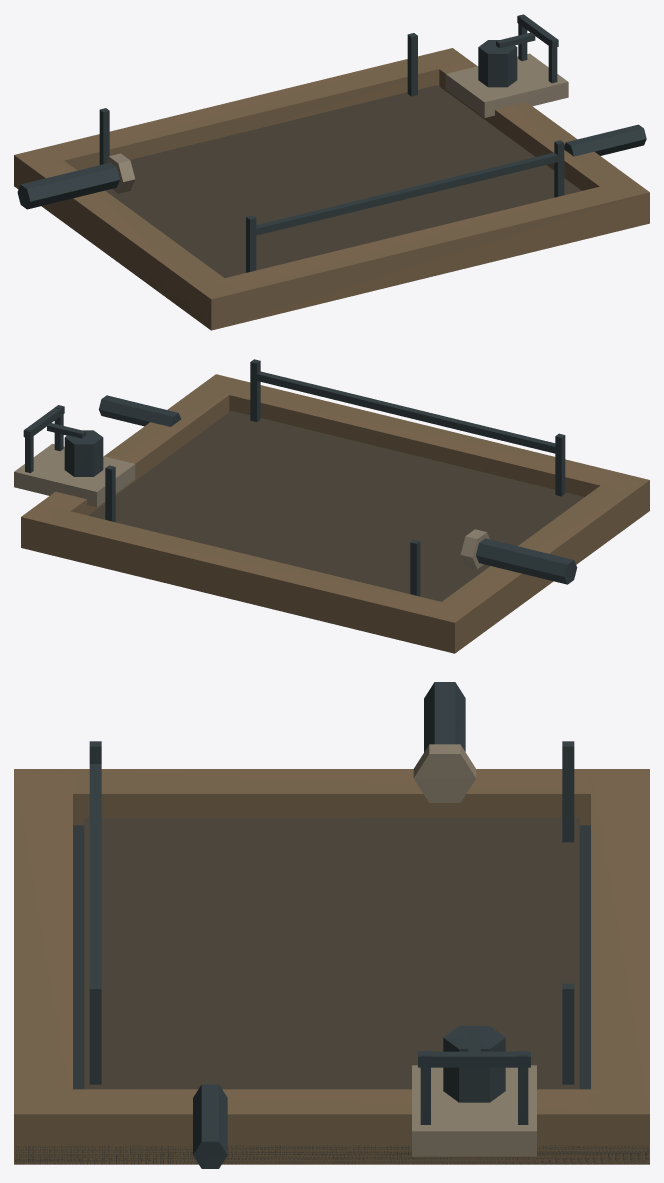
Rendered from manure-lagoon.source.glb.
3 renders of one model, top to bottom at view 1: azimuth 30°, elevation 25°; view 2: azimuth 150°, elevation 25°; view 3: azimuth 270°, elevation 25°, orthographic. The views are drawn at different scales.
Parts seen in each view (by area): view 1: manure-lagoon-low-compacted-earth-embankment-mesh (×4), manure-lagoon-dark-contained-slurry-surface-cue-mesh, manure-lagoon-guarded-pump-service-platform-mesh, manure-lagoon-perimeter-safety-rail-mesh, manure-lagoon-reinforced-inlet-pipe-mesh, manure-lagoon-perimeter-safety-post-mesh (×4), manure-lagoon-small-isolation-pump-cue-mesh, manure-lagoon-outflow-irrigation-connection-mesh, manure-lagoon-inlet-pipe-collar-mesh, manure-lagoon-pump-platform-guard-rail-mesh; view 2: manure-lagoon-low-compacted-earth-embankment-mesh (×4), manure-lagoon-dark-contained-slurry-surface-cue-mesh, manure-lagoon-guarded-pump-service-platform-mesh, manure-lagoon-perimeter-safety-rail-mesh, manure-lagoon-reinforced-inlet-pipe-mesh, manure-lagoon-perimeter-safety-post-mesh (×4), manure-lagoon-small-isolation-pump-cue-mesh, manure-lagoon-outflow-irrigation-connection-mesh, manure-lagoon-inlet-pipe-collar-mesh, manure-lagoon-pump-platform-guard-rail-mesh; view 3: manure-lagoon-dark-contained-slurry-surface-cue-mesh, manure-lagoon-low-compacted-earth-embankment-mesh (×4), manure-lagoon-broad-lined-lagoon-base-mesh, manure-lagoon-guarded-pump-service-platform-mesh, manure-lagoon-perimeter-safety-post-mesh (×3), manure-lagoon-small-isolation-pump-cue-mesh, manure-lagoon-inlet-pipe-collar-mesh, manure-lagoon-perimeter-safety-rail-mesh, manure-lagoon-outflow-irrigation-connection-mesh, manure-lagoon-reinforced-inlet-pipe-mesh, manure-lagoon-pump-platform-guard-rail-mesh, manure-lagoon-pump-platform-guard-post-mesh (×2).
Boxes of the visible parts, x1,y1,x2,y2 form: manure-lagoon-low-compacted-earth-embankment-mesh (×4): [14, 48, 649, 330]; manure-lagoon-dark-contained-slurry-surface-cue-mesh: [105, 85, 581, 277]; manure-lagoon-guarded-pump-service-platform-mesh: [445, 53, 568, 117]; manure-lagoon-perimeter-safety-rail-mesh: [250, 152, 557, 236]; manure-lagoon-reinforced-inlet-pipe-mesh: [17, 162, 119, 209]; manure-lagoon-perimeter-safety-post-mesh (×4): [99, 33, 564, 272]; manure-lagoon-small-isolation-pump-cue-mesh: [478, 40, 517, 87]; manure-lagoon-outflow-irrigation-connection-mesh: [564, 124, 646, 156]; manure-lagoon-inlet-pipe-collar-mesh: [106, 153, 135, 193]; manure-lagoon-pump-platform-guard-rail-mesh: [517, 14, 558, 48]; manure-lagoon-low-compacted-earth-embankment-mesh (×4): [21, 374, 649, 653]; manure-lagoon-dark-contained-slurry-surface-cue-mesh: [88, 411, 584, 601]; manure-lagoon-guarded-pump-service-platform-mesh: [14, 443, 135, 507]; manure-lagoon-perimeter-safety-rail-mesh: [251, 371, 555, 453]; manure-lagoon-reinforced-inlet-pipe-mesh: [476, 538, 577, 584]; manure-lagoon-perimeter-safety-post-mesh (×4): [105, 359, 565, 596]; manure-lagoon-small-isolation-pump-cue-mesh: [64, 430, 103, 476]; manure-lagoon-outflow-irrigation-connection-mesh: [98, 395, 180, 426]; manure-lagoon-inlet-pipe-collar-mesh: [460, 529, 489, 569]; manure-lagoon-pump-platform-guard-rail-mesh: [23, 405, 64, 438]; manure-lagoon-dark-contained-slurry-surface-cue-mesh: [84, 817, 579, 1089]; manure-lagoon-low-compacted-earth-embankment-mesh (×4): [14, 769, 649, 1164]; manure-lagoon-broad-lined-lagoon-base-mesh: [15, 825, 648, 1164]; manure-lagoon-guarded-pump-service-platform-mesh: [412, 1065, 536, 1156]; manure-lagoon-perimeter-safety-post-mesh (×3): [89, 741, 574, 1084]; manure-lagoon-small-isolation-pump-cue-mesh: [443, 1026, 505, 1102]; manure-lagoon-inlet-pipe-collar-mesh: [413, 744, 476, 802]; manure-lagoon-perimeter-safety-rail-mesh: [89, 764, 101, 983]; manure-lagoon-outflow-irrigation-connection-mesh: [193, 1084, 227, 1168]; manure-lagoon-reinforced-inlet-pipe-mesh: [424, 682, 465, 751]; manure-lagoon-pump-platform-guard-rail-mesh: [418, 1051, 530, 1067]; manure-lagoon-pump-platform-guard-post-mesh (×2): [420, 1051, 528, 1124].
Size of the model in its own units: 5.83 by 0.86 by 3.66.
